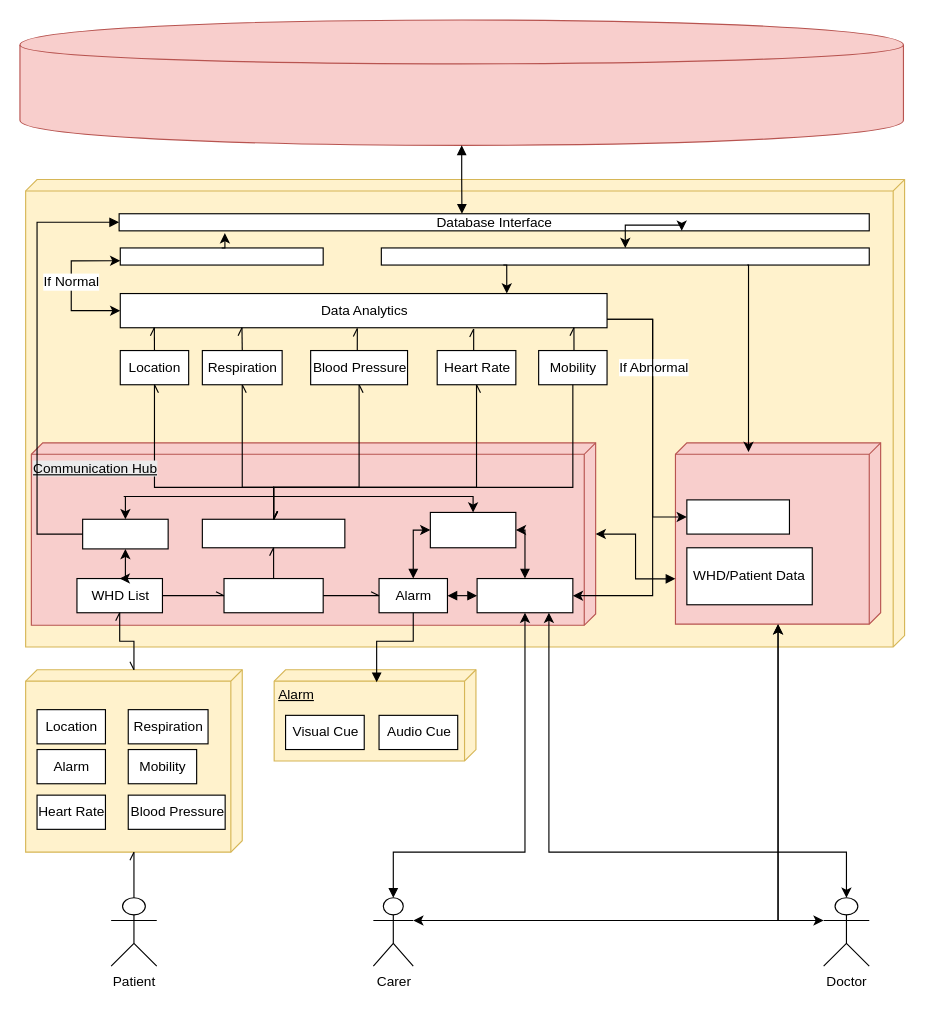
Some shapes in this 925 by 1010 pixel diagram are drawn without their labels. The shapes that lost their labels are listed below. From the top down, each one's box as (x1, y1, x2, y2) in pixels, then its label:
(19, 19, 903, 145): Database
(119, 247, 323, 265): Write module
(380, 247, 869, 265): Read module
(25, 178, 905, 647): Base Station
(82, 518, 168, 549): WHD Status
(201, 518, 345, 548): Patient Data
(429, 511, 516, 548): Timer
(686, 499, 789, 534): Abnormal Flag
(674, 442, 881, 624): User Interface
(223, 577, 323, 613): Data Decipher
(476, 577, 573, 613): SMS Service
(25, 669, 242, 852): Wearable health device
